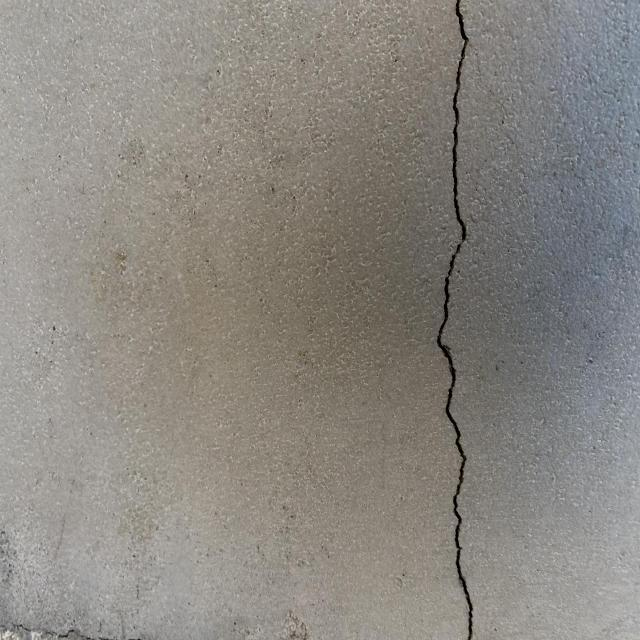SurfaceCrack: (390, 1, 514, 640)
